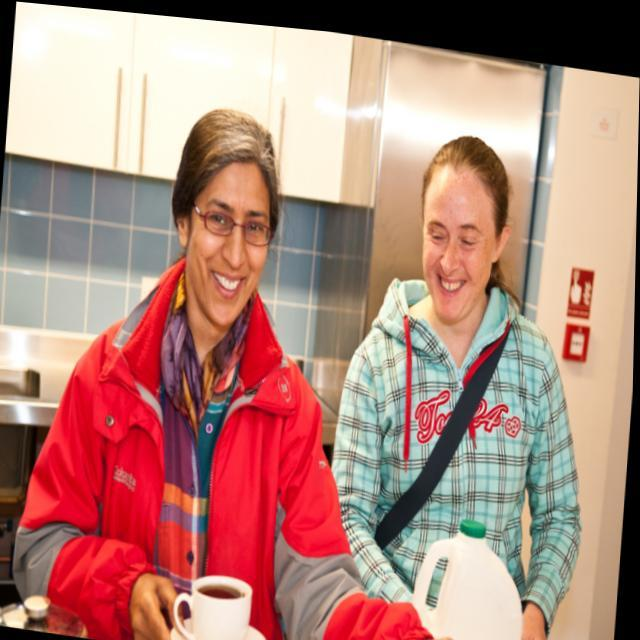Nonhelmet: (167, 105, 285, 329), (407, 126, 522, 338)
